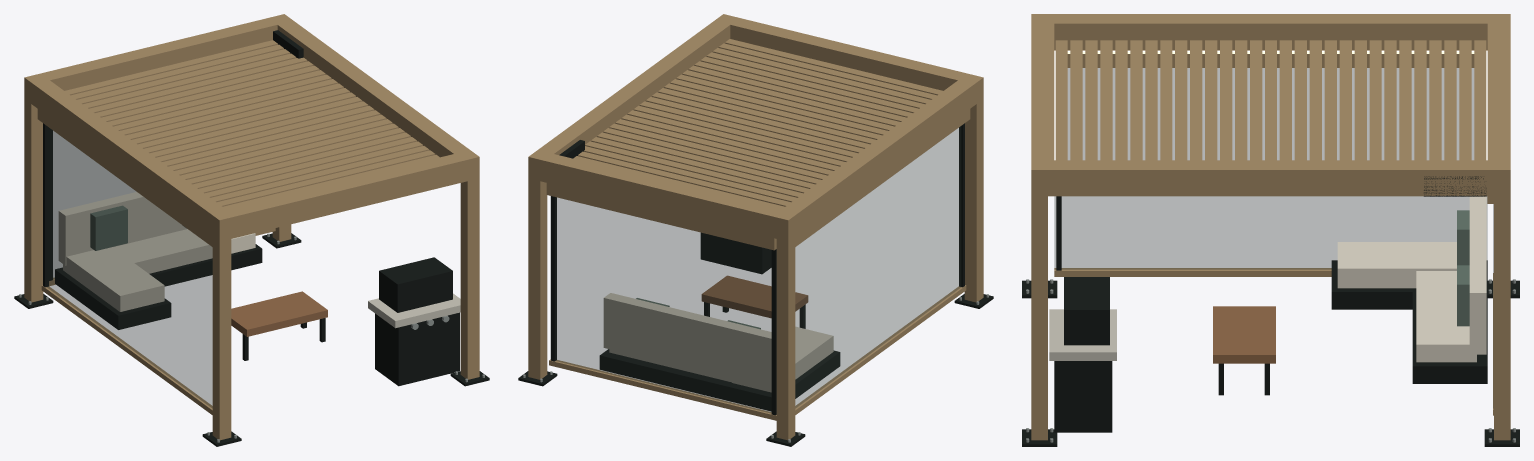
File: coordinatez-axis-10x13-sand.glb
The picture shows the model from 3 angles, left to right: view 1: azimuth 30°, elevation 25°; view 2: azimuth 150°, elevation 25°; view 3: azimuth 270°, elevation 25°; orthographic projection. The views are drawn at different scales.
Parts seen in each view (by area): view 1: Left motorized wall, Structural post (×3), Front motor beam, Left beam, Rear drainage beam, Right beam, BBQ cabinet, Chaise cushion, Sofa back, Rear motorized wall, BBQ hood, Sofa seat (+36 smaller); view 2: Rear motorized wall, Left motorized wall, Structural post (×3), Sofa back, Rear drainage beam, Left beam, Front motor beam, Right beam, Sofa base, Rear wall cassette, Coffee table top, Rear wall guide (×2) (+35 smaller); view 3: Left motorized wall, Right beam, Left beam, Structural post (×2), Chaise cushion, Rear drainage beam, Front motor beam, Sofa seat, BBQ cabinet, Coffee table top, BBQ hood, Sofa back (+36 smaller).
Part boxes in pixels (box(x1,y1,x2,y2)): Left motorized wall: box(47, 126, 212, 407); Structural post (×3): box(24, 99, 479, 440); Front motor beam: box(210, 150, 479, 241); Left beam: box(24, 73, 235, 241); Rear drainage beam: box(24, 14, 293, 105); Right beam: box(269, 14, 479, 181); BBQ cabinet: box(375, 312, 459, 386); Chaise cushion: box(63, 247, 164, 311); Sofa back: box(58, 192, 186, 265); Rear motorized wall: box(53, 131, 135, 278); BBQ hood: box(379, 257, 452, 312); Sofa seat: box(113, 229, 255, 273); Rear motorized wall: box(550, 196, 771, 413); Left motorized wall: box(795, 126, 960, 407); Structural post (×3): box(528, 99, 983, 440); Sofa back: box(603, 293, 771, 388); Rear drainage beam: box(528, 150, 797, 241); Left beam: box(774, 73, 983, 240); Front motor beam: box(714, 14, 983, 96); Right beam: box(528, 14, 738, 182); Sofa base: box(599, 349, 806, 411); Rear wall cassette: box(546, 183, 776, 250); Coffee table top: box(701, 275, 808, 317); Rear wall guide (×2): box(551, 196, 776, 415); Left motorized wall: box(1054, 68, 1487, 269); Right beam: box(1031, 160, 1510, 196); Left beam: box(1031, 14, 1510, 49); Structural post (×2): box(1031, 196, 1510, 440); Chaise cushion: box(1337, 242, 1456, 288); Rear drainage beam: box(1487, 14, 1510, 196); Front motor beam: box(1031, 14, 1054, 196); Sofa seat: box(1416, 271, 1476, 362); BBQ cabinet: box(1054, 361, 1112, 432); Coffee table top: box(1213, 306, 1275, 363); BBQ hood: box(1064, 277, 1109, 345); Sofa back: box(1469, 196, 1486, 354).
Bounding box in the file's own units: 3.2 × 2.49 × 4.11.
